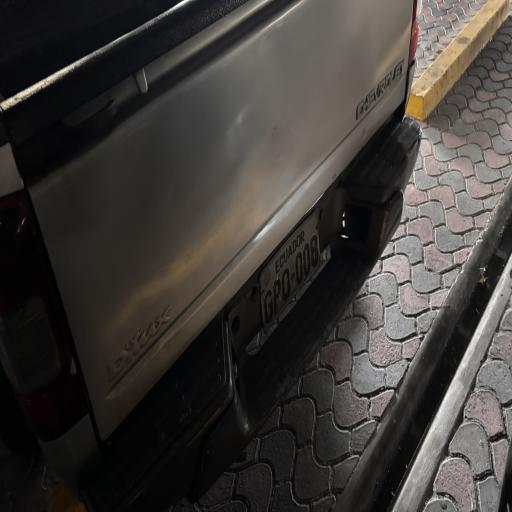license_plate: (260, 210, 320, 332)
